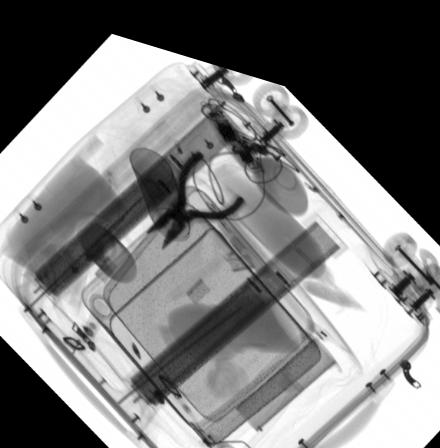Pliers: (146, 135, 247, 240)
